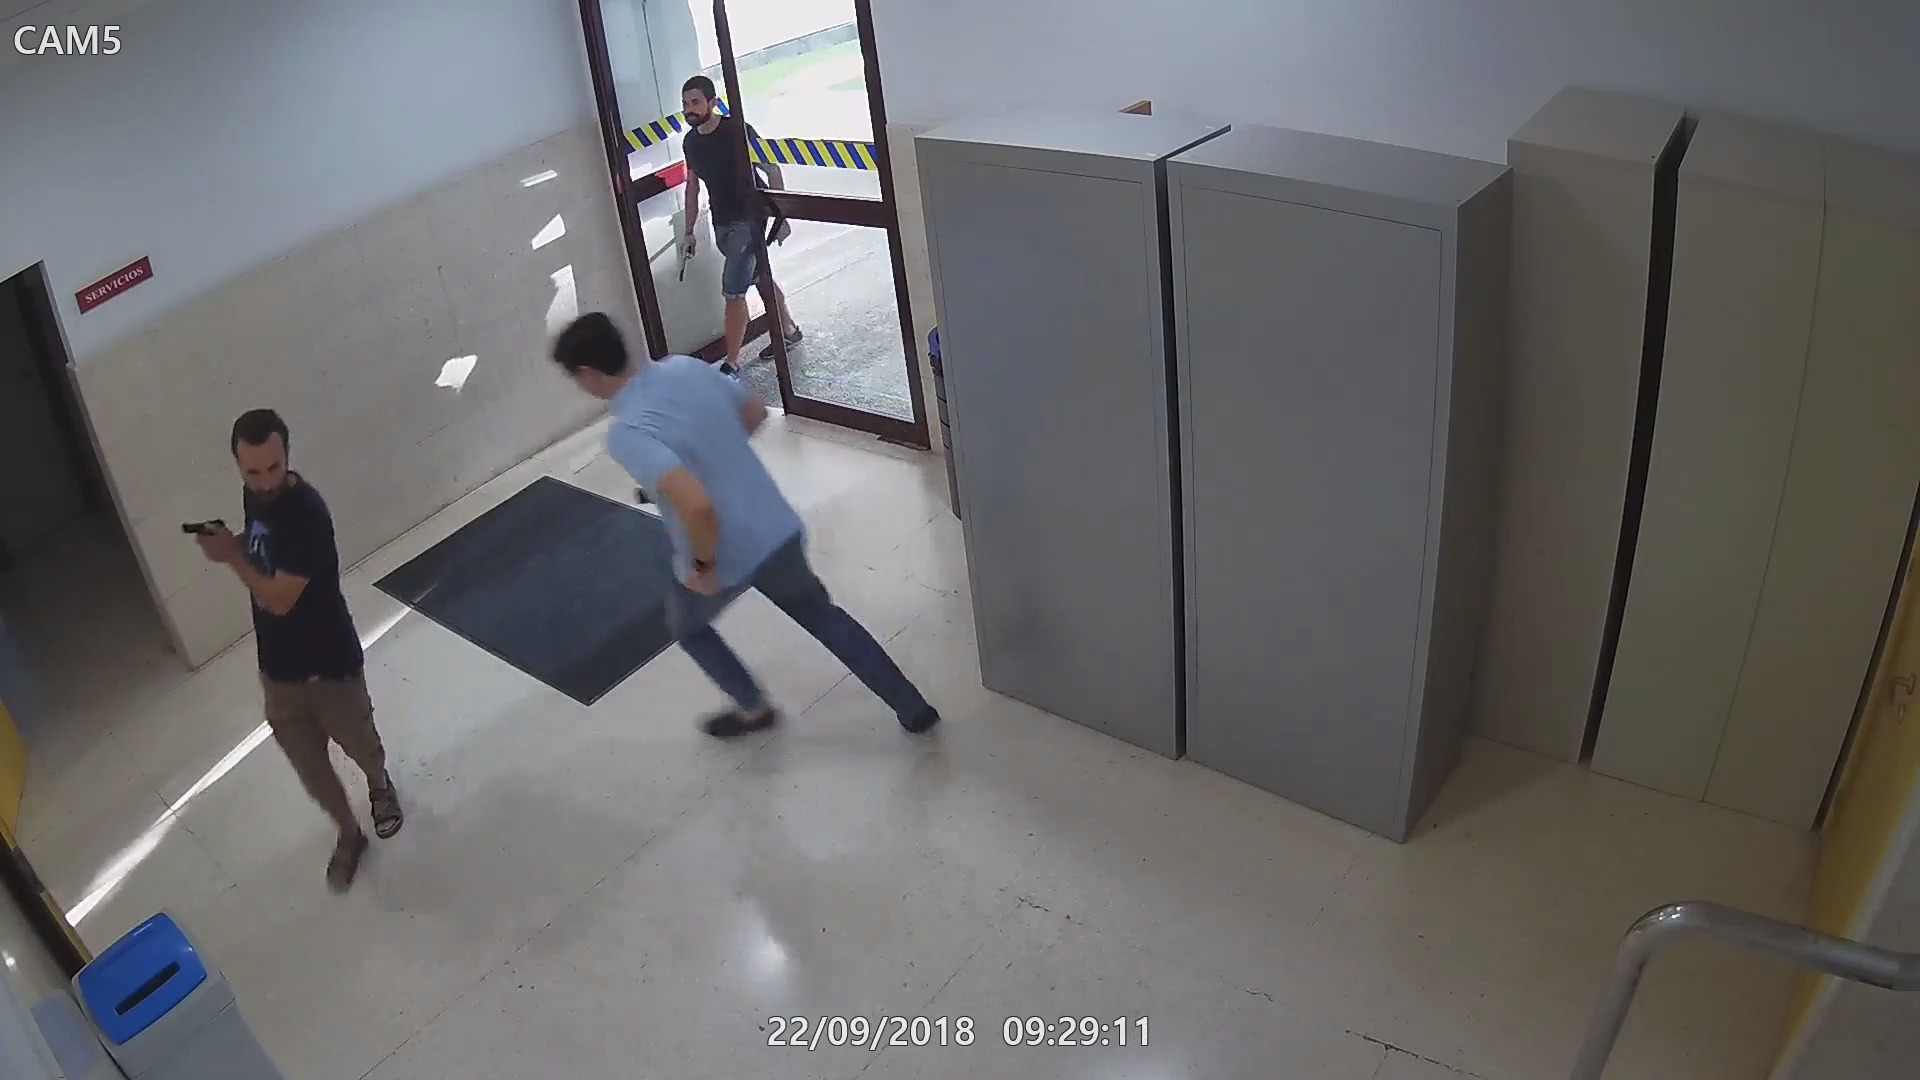Handgun: (178, 518, 233, 560), (674, 224, 703, 281)
